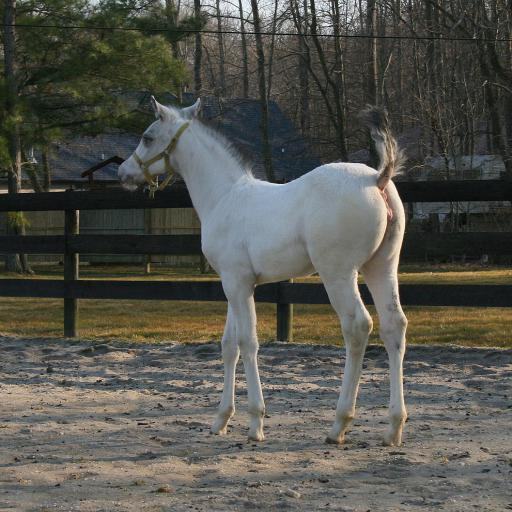horse: (117, 94, 408, 446)
